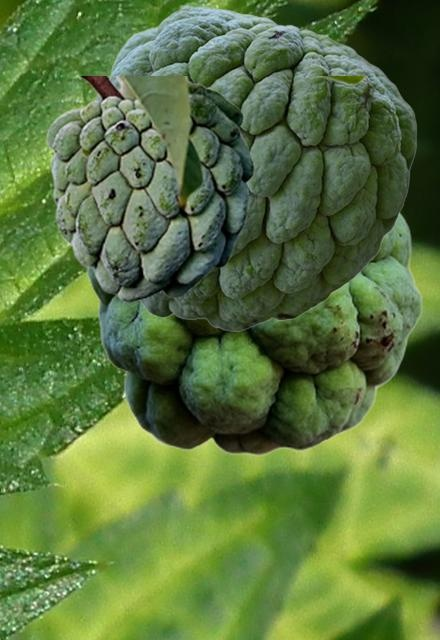atis: (92, 5, 416, 330), (86, 212, 422, 456), (45, 76, 364, 302)
